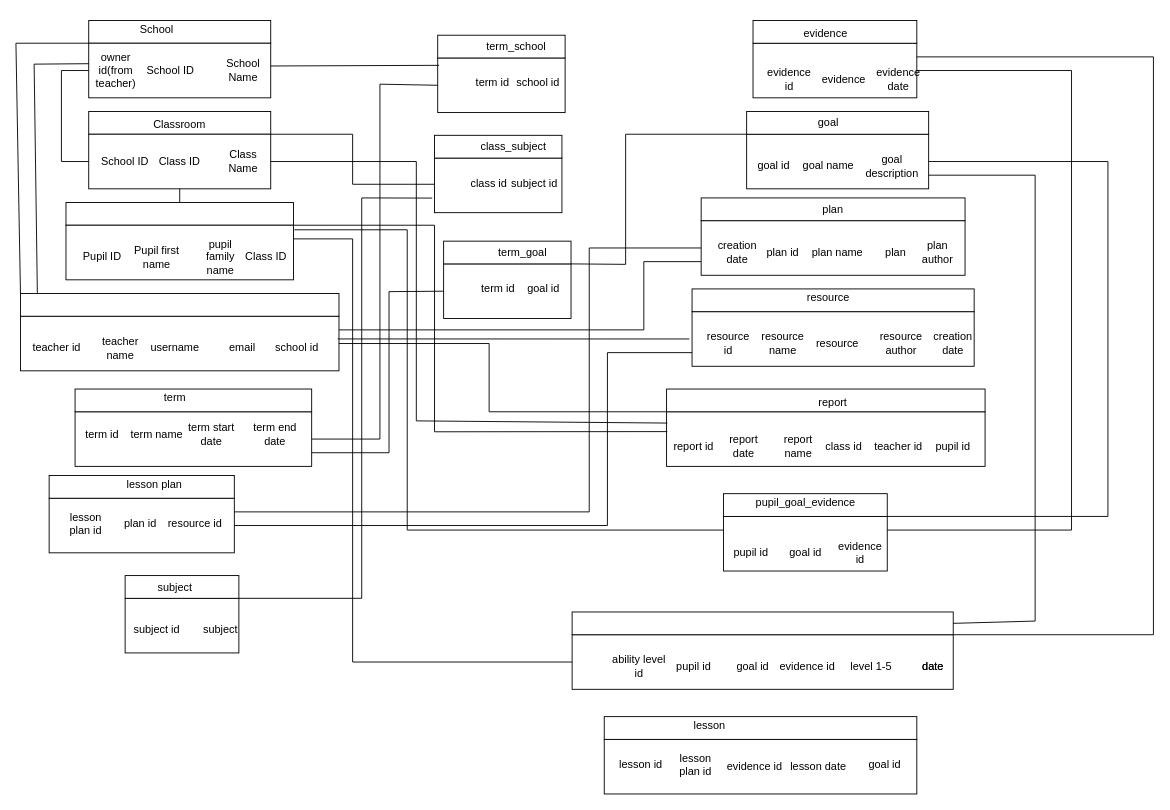
Image size: 1170x810. Some labels were removed from this diagram. Here are the shapes that lost their labels. From the top down, the centre of each, then its label:
the point at 179,213: Pupil
the point at 179,304: Teacher
the point at 762,623: ability
